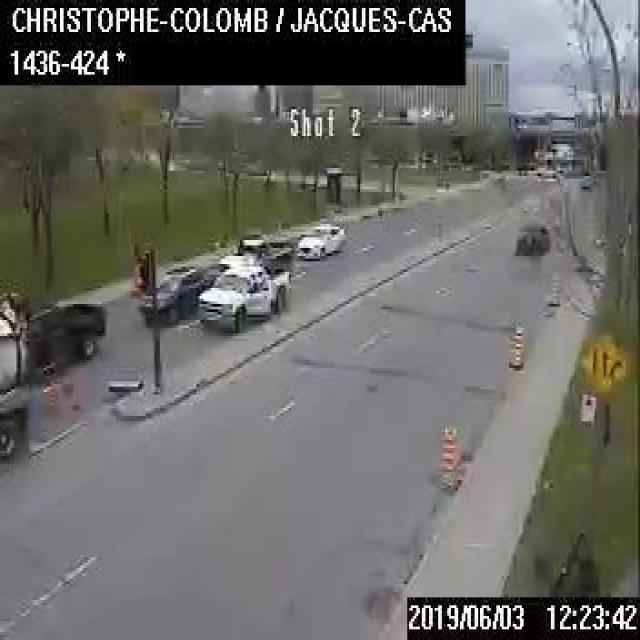construction: (439, 421, 458, 486), (507, 318, 522, 368), (131, 248, 144, 293), (547, 270, 561, 305)
vehicle: (0, 290, 85, 464), (196, 262, 290, 332), (29, 296, 104, 373), (142, 262, 219, 322), (217, 230, 292, 274), (100, 357, 145, 400), (295, 221, 343, 258), (514, 220, 548, 253)
